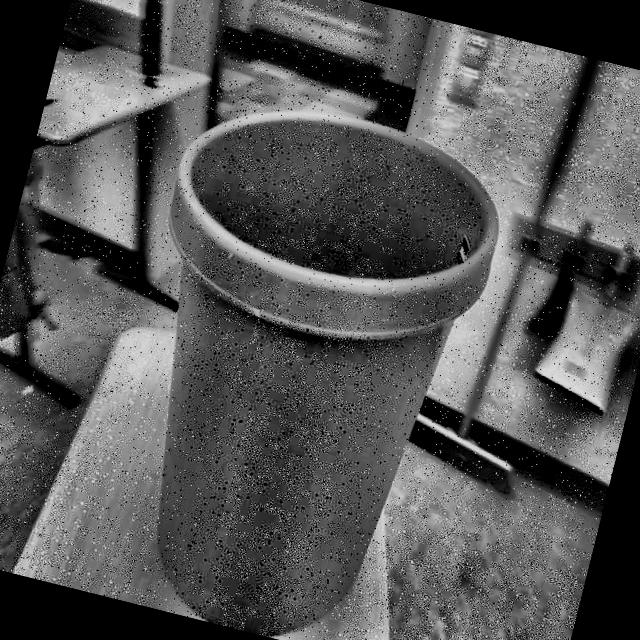Dustbin: (54, 0, 576, 640)
